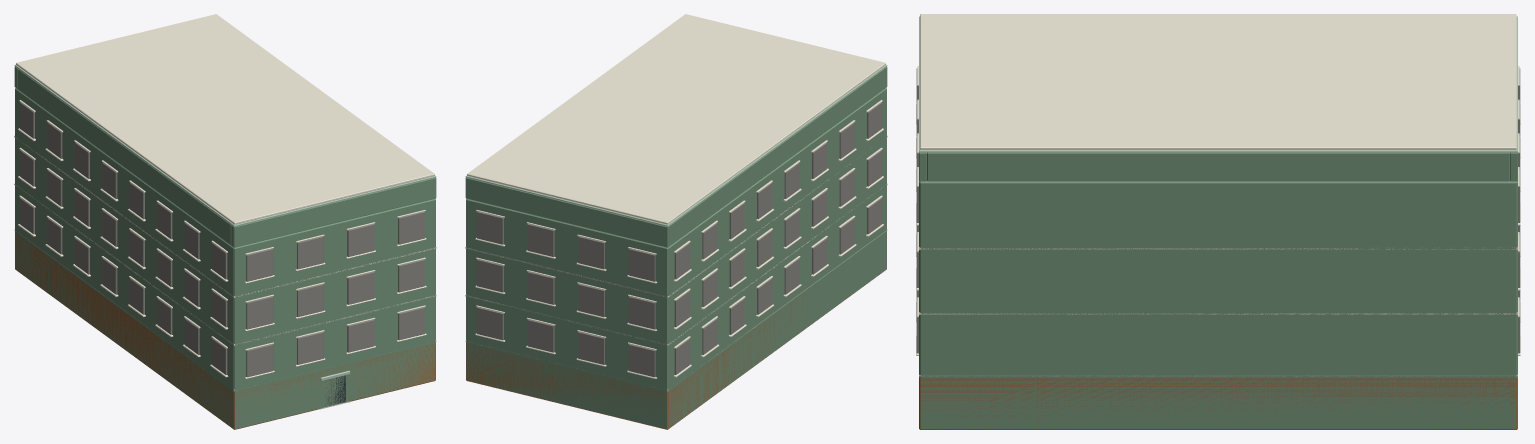
Rendered from VG_Bld_Residential_23.fbx.
The picture shows the model from 3 angles, left to right: view 1: azimuth 30°, elevation 25°; view 2: azimuth 150°, elevation 25°; view 3: azimuth 270°, elevation 25°; orthographic projection. The views are drawn at different scales.
Parts seen in each view (by area): view 1: VG_Bld_Residential_23_Body; view 2: VG_Bld_Residential_23_Body; view 3: VG_Bld_Residential_23_Body.
Part boxes in pixels (x1,y1,x2,y2): VG_Bld_Residential_23_Body: (14,14,436,429); VG_Bld_Residential_23_Body: (465,14,887,429); VG_Bld_Residential_23_Body: (916,14,1520,429).
Bounding box in the file's own units: 19.76 × 19.08 × 37.
